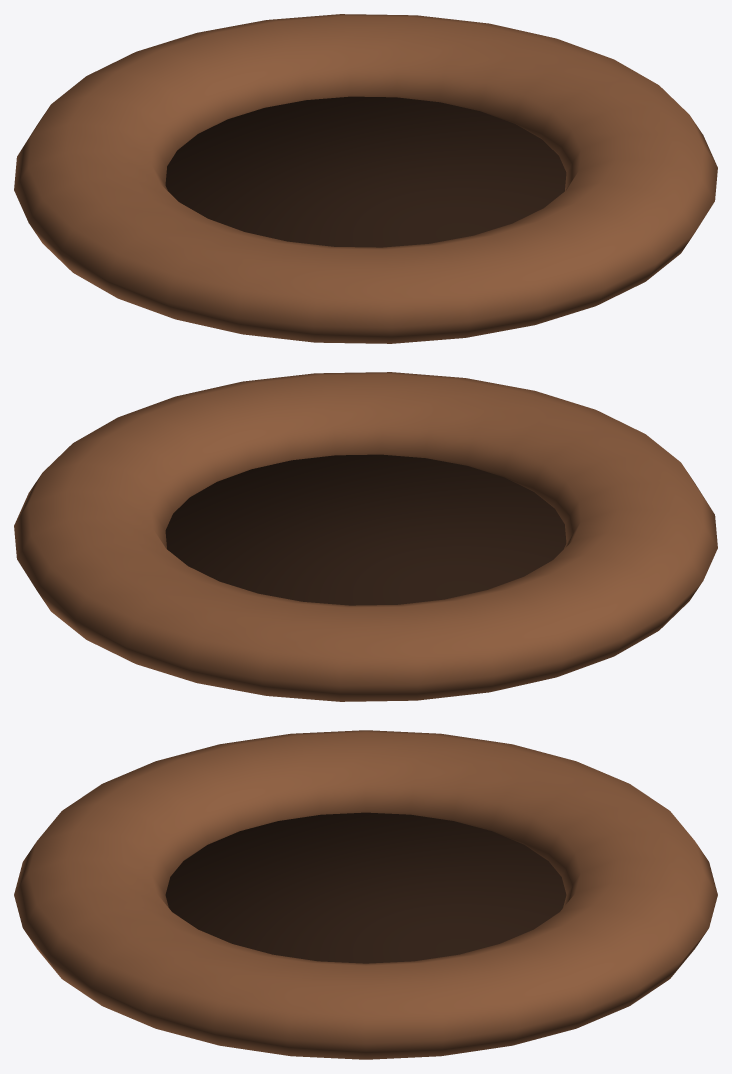
Rendered from hole.glb.
The picture shows the model from 3 angles, top to bottom: view 1: azimuth 30°, elevation 25°; view 2: azimuth 150°, elevation 25°; view 3: azimuth 270°, elevation 25°; orthographic projection.
Visible parts, largest first — view 1: Rim, Pit; view 2: Rim, Pit; view 3: Rim, Pit.
Part boxes in pixels (bbox=[...]): Rim: bbox=[14, 14, 717, 343]; Pit: bbox=[165, 96, 566, 247]; Rim: bbox=[14, 372, 717, 701]; Pit: bbox=[165, 454, 566, 605]; Rim: bbox=[14, 730, 717, 1059]; Pit: bbox=[165, 812, 566, 963].
Size of the model in its own units: 1.58 by 0.1778 by 1.58.
